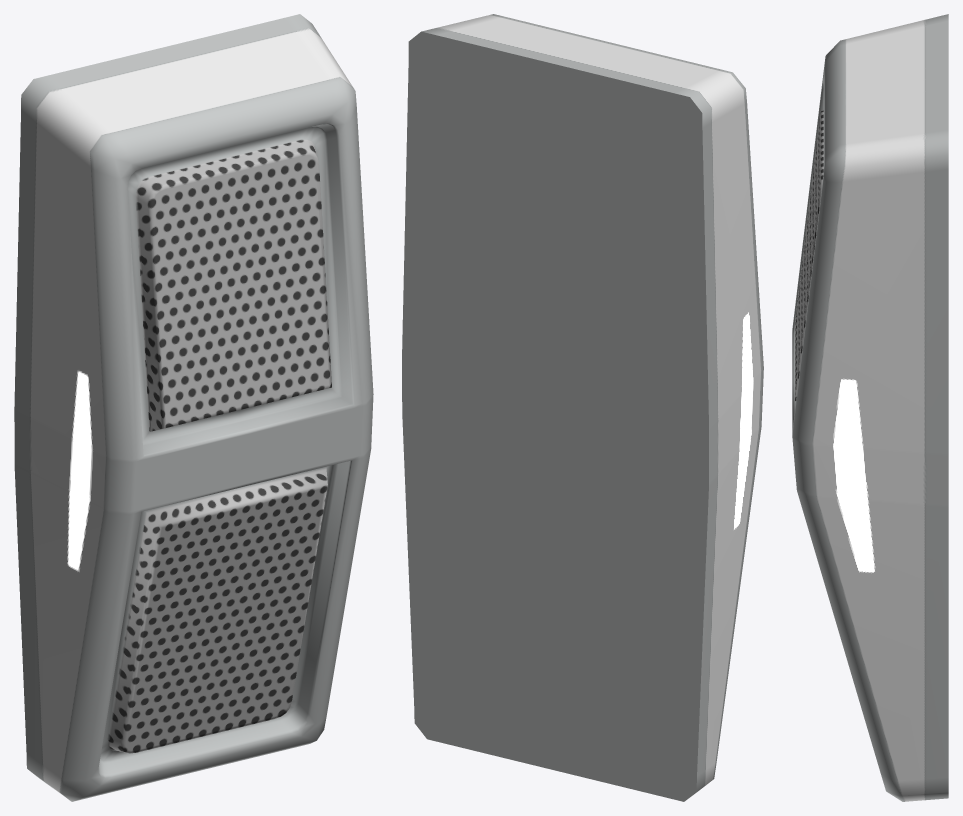
The model's file is SpeakerWall03.FBX.
3 renders of one model, left to right at view 1: azimuth 30°, elevation 25°; view 2: azimuth 150°, elevation 25°; view 3: azimuth 270°, elevation 25°, orthographic. The views are drawn at different scales.
Visible parts, largest first — view 1: SpeakerWall03; view 2: SpeakerWall03; view 3: SpeakerWall03.
Boxes of the visible parts, x1,y1,x2,y2 form: SpeakerWall03: (14,14,373,801); SpeakerWall03: (402,14,763,801); SpeakerWall03: (792,14,948,801).
Size of what is drawn, in the model's own units: 0.2491 by 0.5535 by 0.1167.
